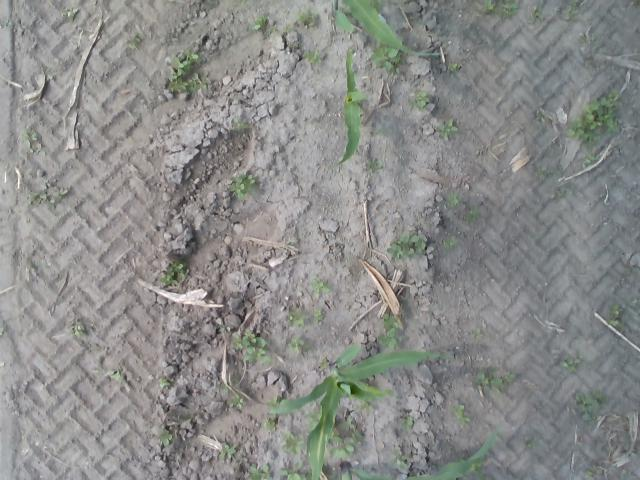Maize: (267, 342, 463, 480), (340, 428, 498, 480), (332, 0, 445, 56), (333, 47, 365, 166)
Weeds: (568, 90, 622, 142), (169, 49, 210, 93), (387, 232, 426, 259), (572, 390, 604, 420), (372, 47, 400, 68), (278, 460, 302, 480), (243, 347, 270, 364), (391, 449, 412, 469), (378, 328, 398, 348), (283, 434, 304, 453), (248, 464, 272, 480), (288, 334, 309, 352), (500, 0, 520, 18), (297, 10, 318, 27), (439, 119, 458, 137), (472, 372, 490, 391), (289, 308, 306, 328), (220, 442, 239, 459), (29, 186, 48, 202), (229, 182, 245, 201), (410, 92, 429, 108), (365, 157, 383, 173), (529, 4, 545, 22), (232, 332, 250, 348), (310, 280, 330, 294), (328, 446, 356, 456), (562, 357, 580, 372), (66, 324, 85, 338), (381, 315, 399, 329), (252, 16, 268, 30), (158, 429, 172, 445), (234, 115, 248, 130), (563, 6, 577, 21), (464, 206, 478, 221), (228, 172, 247, 183), (306, 50, 322, 63), (162, 270, 175, 286), (355, 403, 374, 413), (456, 412, 469, 426), (230, 394, 243, 408), (340, 419, 354, 432), (24, 132, 38, 144), (172, 262, 186, 274), (491, 378, 503, 392), (128, 35, 140, 48), (350, 430, 363, 442), (402, 416, 413, 430), (584, 152, 596, 164), (106, 370, 122, 379), (255, 336, 267, 348), (66, 8, 80, 18), (538, 166, 548, 180), (448, 194, 460, 205), (444, 236, 456, 247), (158, 379, 170, 390), (246, 329, 256, 342), (54, 188, 68, 197), (484, 1, 495, 12), (472, 329, 483, 340), (583, 33, 595, 43), (450, 404, 464, 412), (246, 184, 257, 194), (612, 305, 622, 316), (314, 310, 326, 319), (264, 422, 276, 431), (472, 462, 485, 470), (244, 176, 254, 186), (448, 62, 458, 72), (320, 360, 330, 370), (504, 374, 516, 382), (622, 470, 632, 479), (284, 22, 292, 33), (570, 0, 583, 6), (183, 412, 192, 420), (610, 320, 619, 328), (270, 26, 278, 34), (528, 443, 537, 449), (536, 401, 543, 408), (585, 471, 592, 478), (558, 190, 566, 196), (221, 384, 228, 390), (536, 118, 540, 126)
